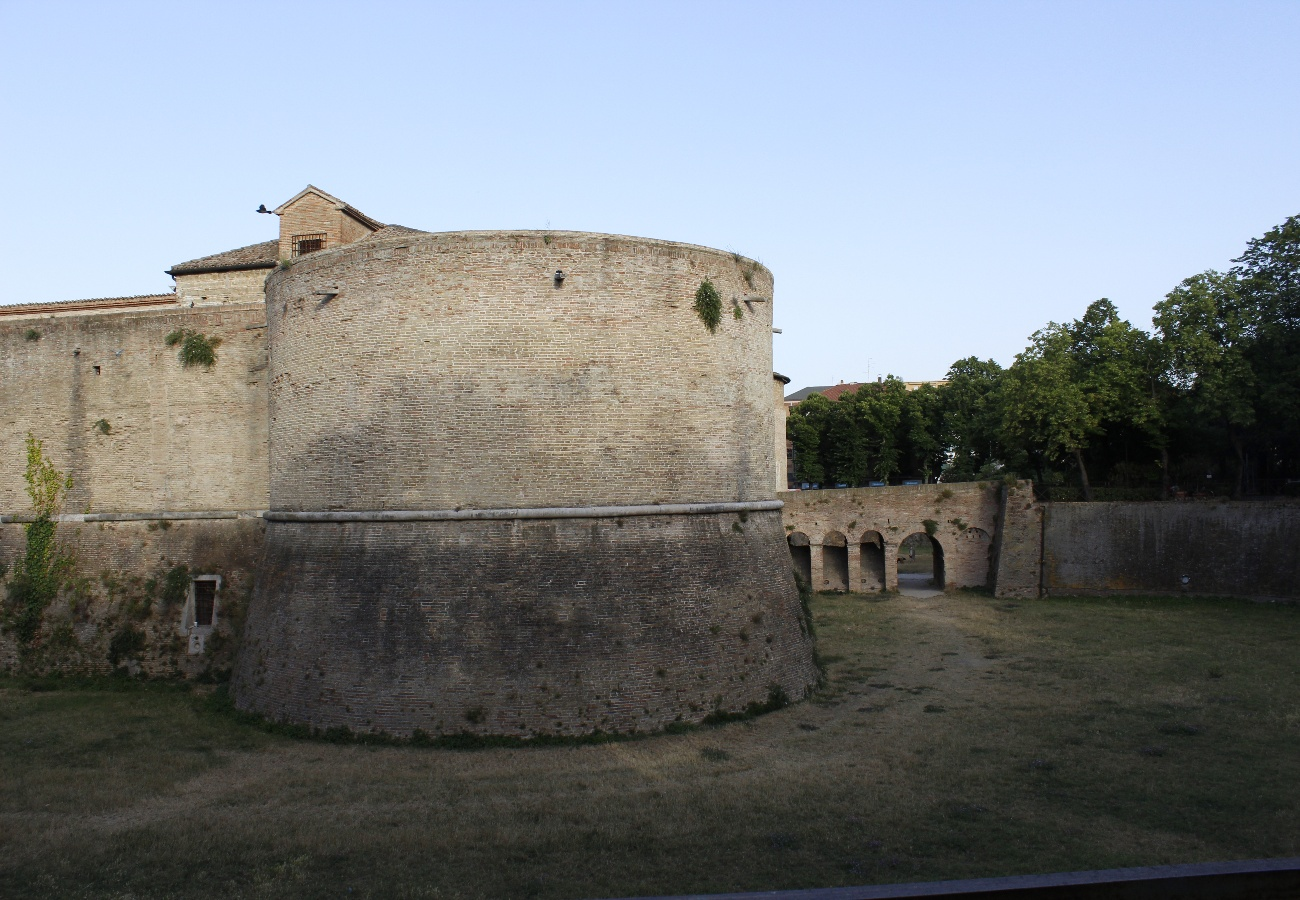Rocca Costanza: (1, 234, 1039, 740)
